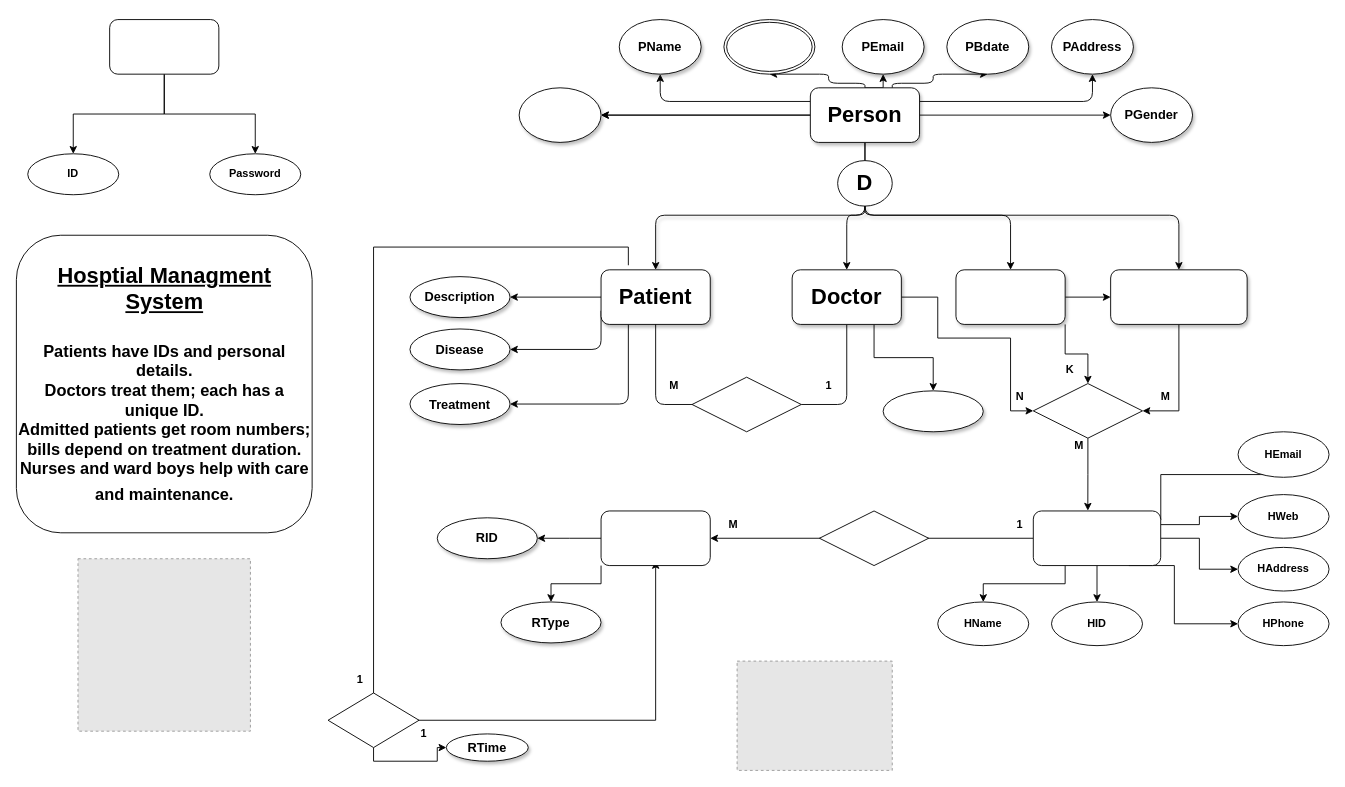
Some shapes in this 1345 by 787 pixel diagram are drawn without their labels. Grey dashed boxes stand in for pictures. The centre of each missing label's shape, as x and y in pixels:
Auth.: (164,46)
Hospital: (1096,538)
manage: (874,538)
Nurse: (1011,298)
PersonID: (561,116)
PPhone: (769,46)
Register: (373,720)
Room: (655,538)
Specialization: (934,412)
Treat: (746,404)
Ward Boy: (1179,298)
Works At: (1087,410)
